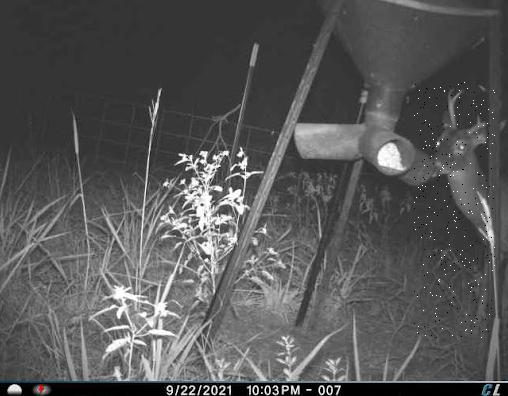Deer: (414, 82, 495, 338)
